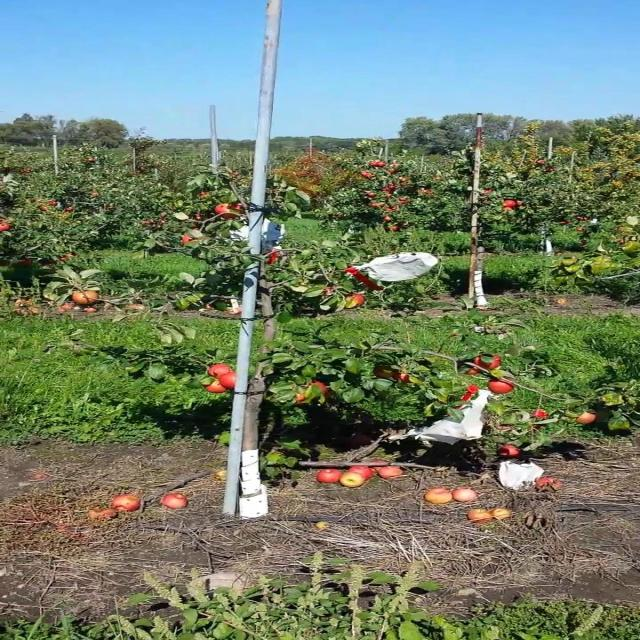apple: (213, 202, 242, 219), (473, 354, 502, 370), (71, 290, 100, 305), (213, 369, 239, 385), (487, 379, 513, 394), (207, 364, 233, 377), (498, 444, 520, 459), (218, 371, 236, 389), (204, 380, 227, 394), (373, 365, 396, 379), (344, 292, 364, 308), (576, 411, 598, 425), (461, 383, 479, 399), (311, 380, 329, 394), (393, 371, 411, 382), (532, 408, 548, 418), (322, 286, 336, 296), (464, 368, 480, 375), (17, 258, 34, 264)
